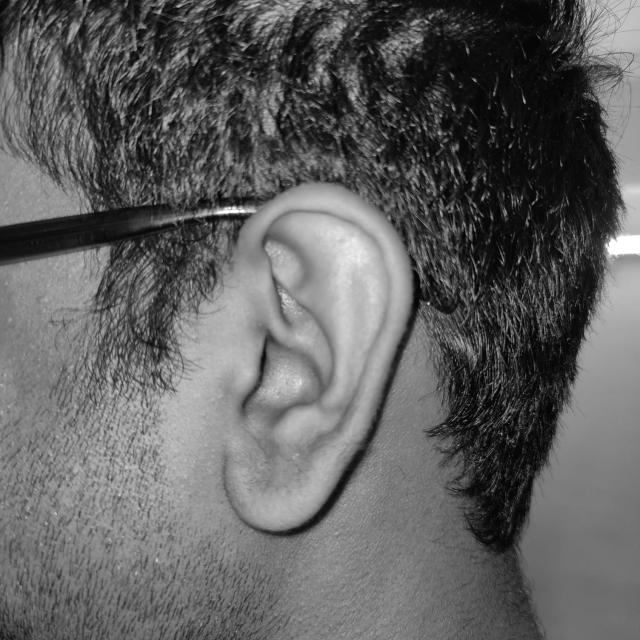ear: (223, 183, 413, 531)
